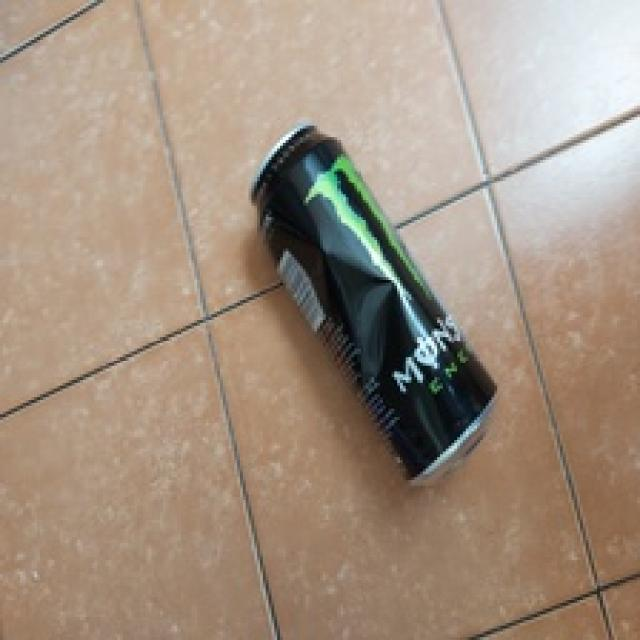recyclable: (246, 121, 498, 489)
